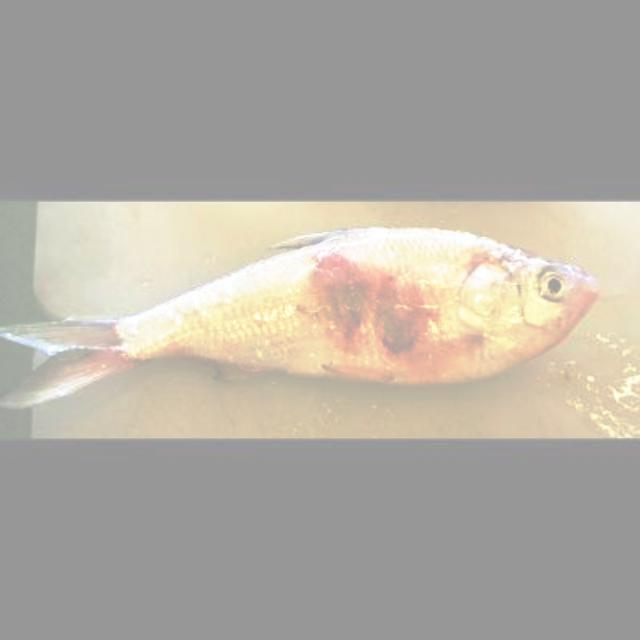Epizootic Ulcerative Syndrome -EUS-: (112, 229, 595, 384)
